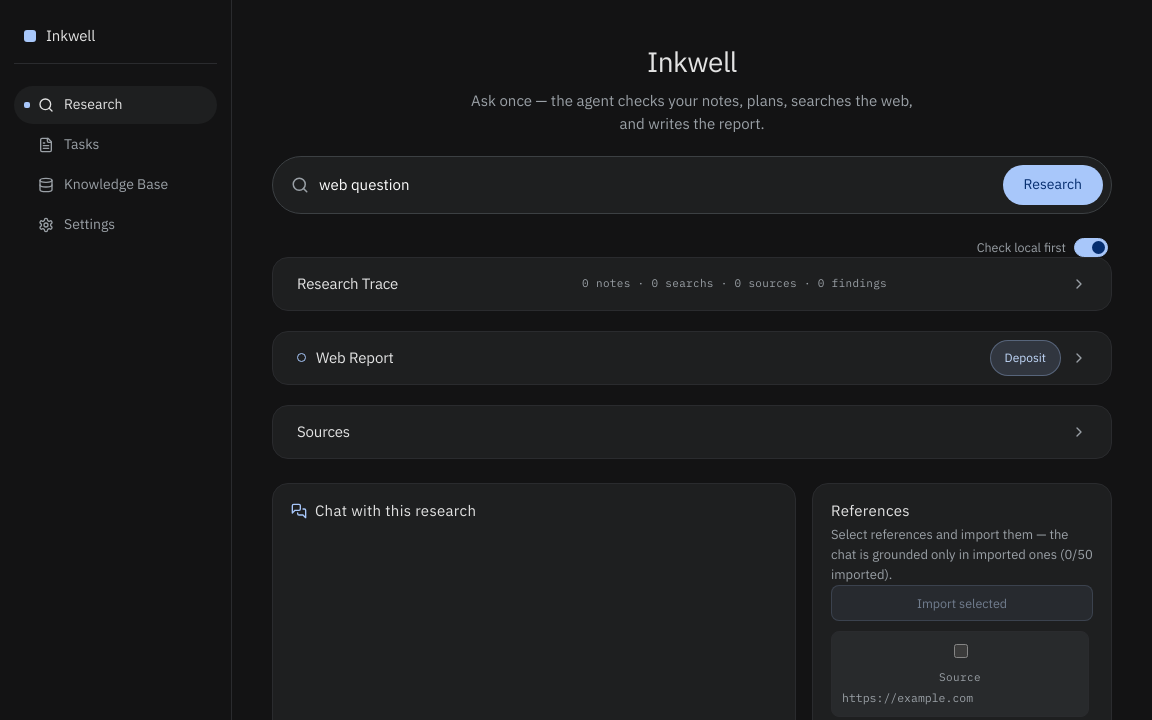
it: App › reattaches to a running web task on load
The width and height of the screenshot is (1152, 720).
Check: the heading "Research Trace" is shown, box [297,274,398,293]
Click the button "Web Report Deposit" at (355, 357), box [273,332,1111,384]
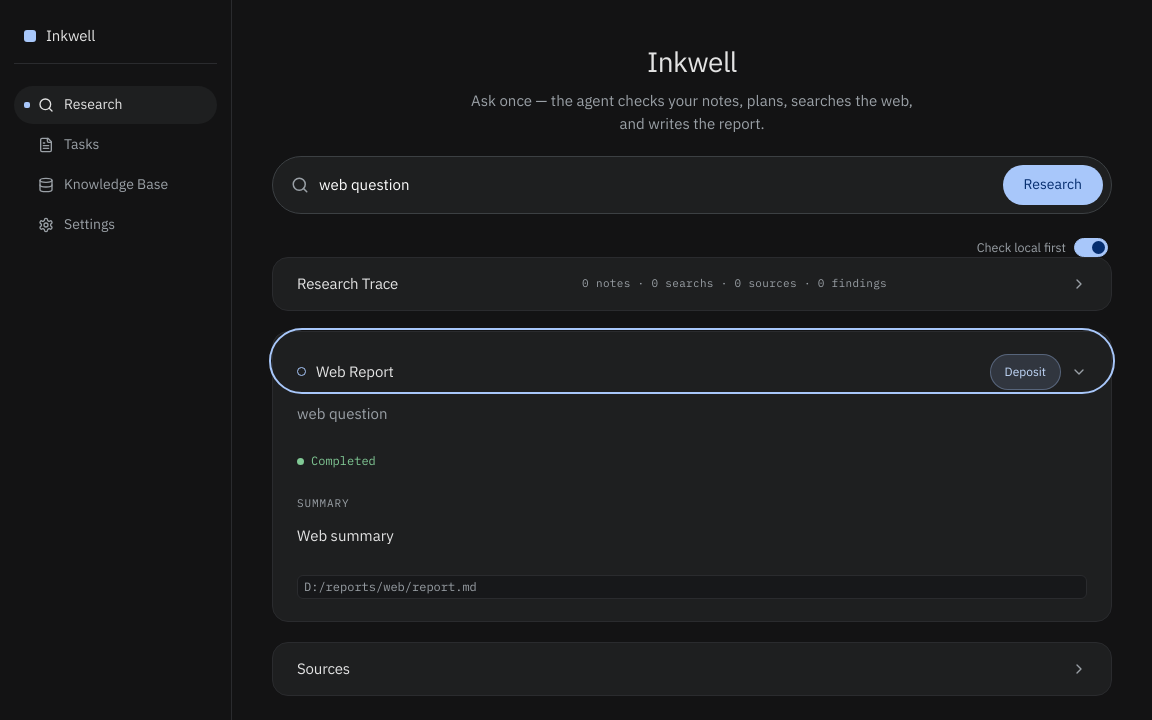
Check: the field named "Research question" holds "web question", box [319,164,992,204]
Check: the text "Web summary" is shown, box [297,526,394,546]
